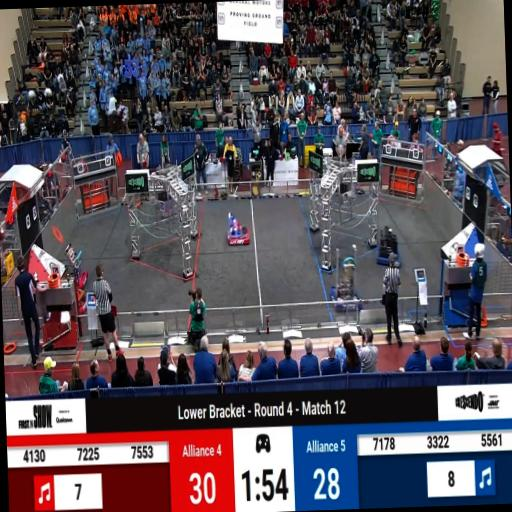robot: (62, 238, 88, 288), (376, 227, 402, 267), (225, 210, 249, 244)
